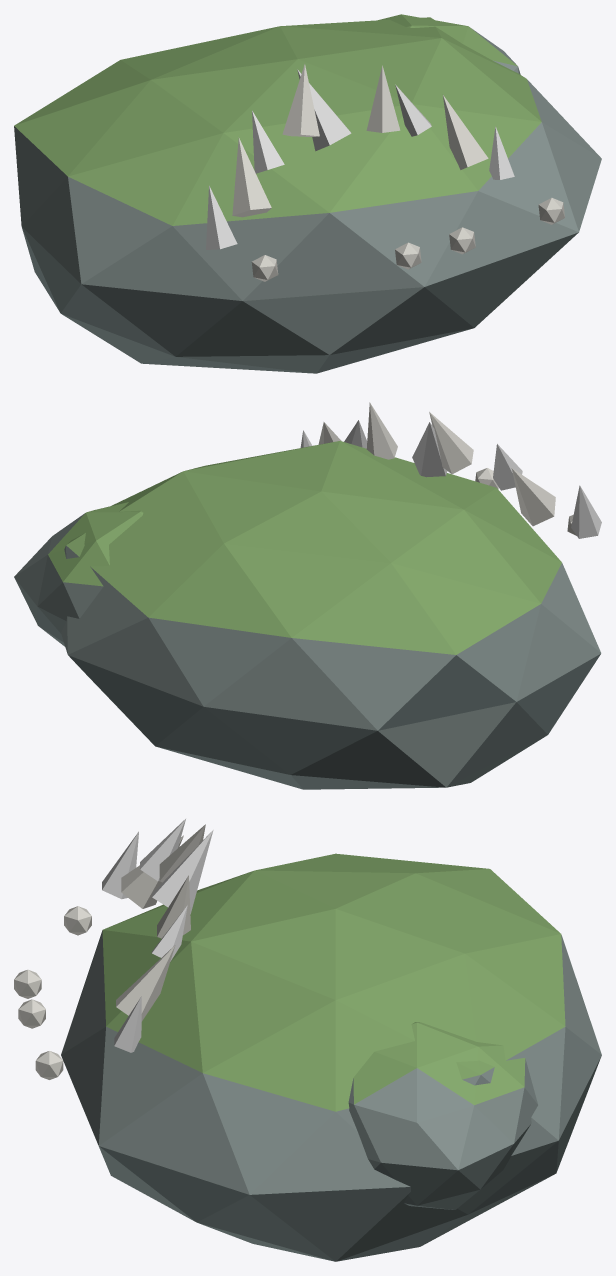
The model's file is vein_hill_salt.glb.
3 views of the same model, one above another, from view 1: azimuth 30°, elevation 25°; view 2: azimuth 150°, elevation 25°; view 3: azimuth 270°, elevation 25° (orthographic). The views are drawn at different scales.
Parts seen in each view (by area): view 1: body; view 2: body; view 3: body.
Part boxes in pixels (x1,y1,x2,y2): body: [14, 14, 601, 373]; body: [14, 402, 601, 789]; body: [14, 819, 601, 1261].
Size of the model in its own units: 4.79 by 2.96 by 4.34.
